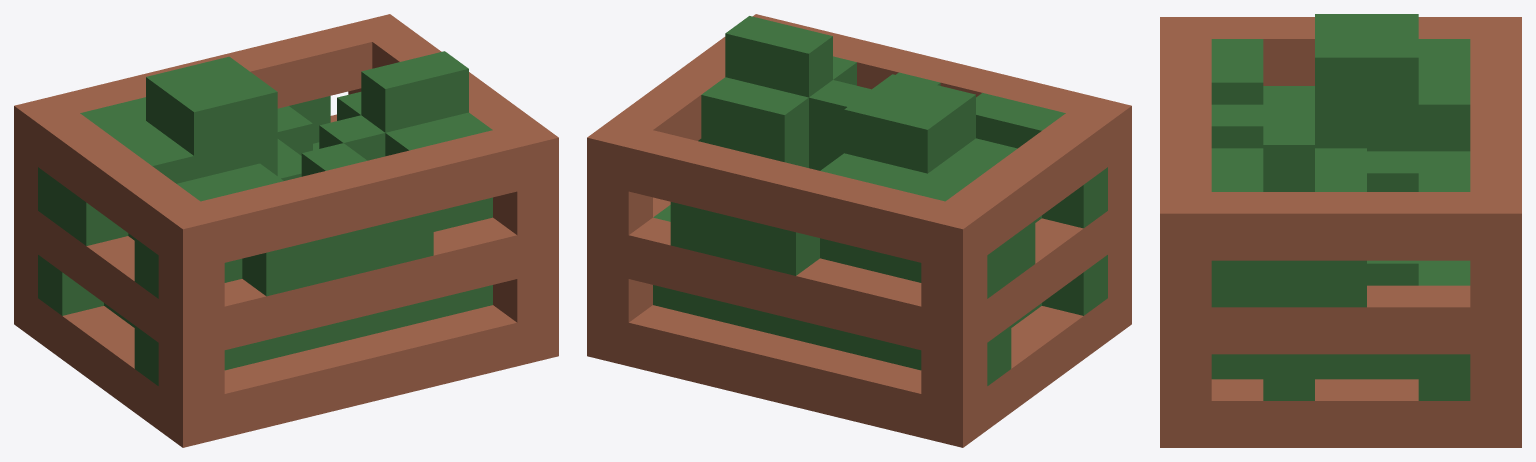
The model's file is village_crate_green.glb.
3 renders of one model, left to right at view 1: azimuth 30°, elevation 25°; view 2: azimuth 150°, elevation 25°; view 3: azimuth 270°, elevation 25°, orthographic. The views are drawn at different scales.
Parts seen in each view (by area): view 1: village_crate_green; view 2: village_crate_green; view 3: village_crate_green.
Part boxes in pixels (x1,y1,x2,y2): village_crate_green: [14, 14, 558, 447]; village_crate_green: [587, 14, 1131, 447]; village_crate_green: [1160, 14, 1521, 447].
Bounding box in the file's own units: 0.9 × 0.6 × 0.7.
Materials: 1 (1 with a texture image).
